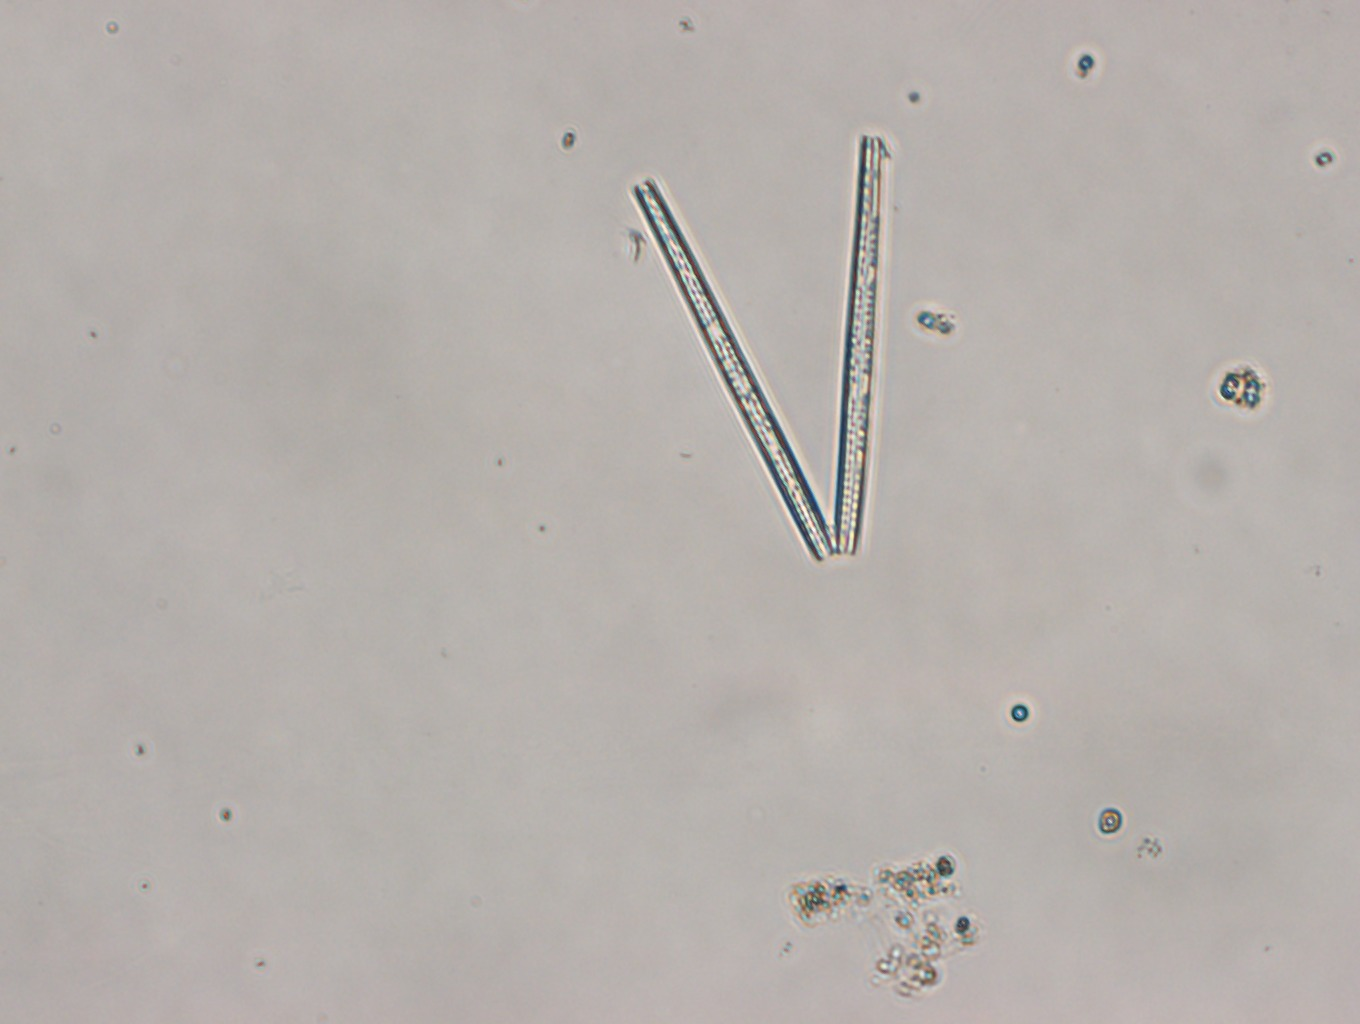thalassionema frauenfeldii: (626, 136, 883, 563)
